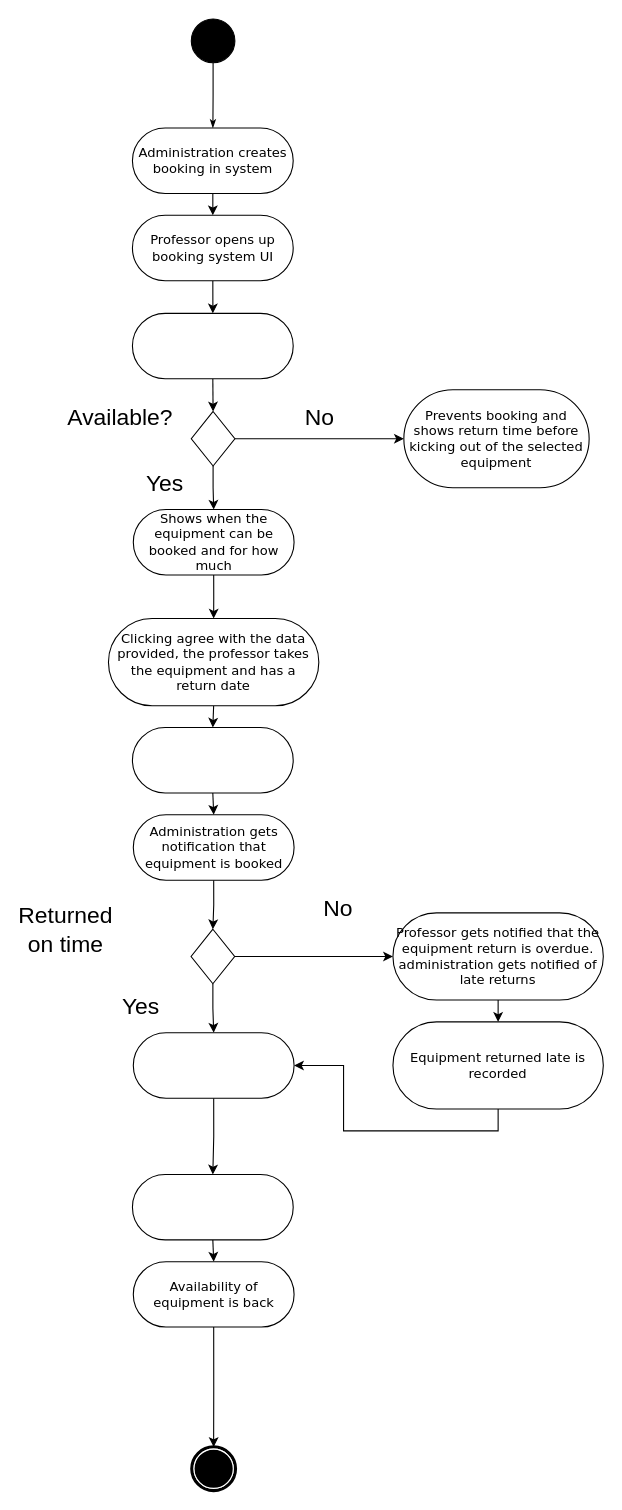
The diagram is 622 pixels wide and 1510 high, and some of its shapes have lost their labels. The shapes that lost their labels are listed below. From the top down, each one's box as (x1, y1, x2, y2) in pixels, then its label:
(131, 312, 293, 379): Finds equipment that is needed and selects it
(131, 726, 293, 793): Mechanics check on the equipment before handing it over to the professor
(132, 1032, 294, 1098): Mechanics get notified to inspect the equipment after use
(131, 1173, 293, 1240): Administration puts equipment back up on the booking system
